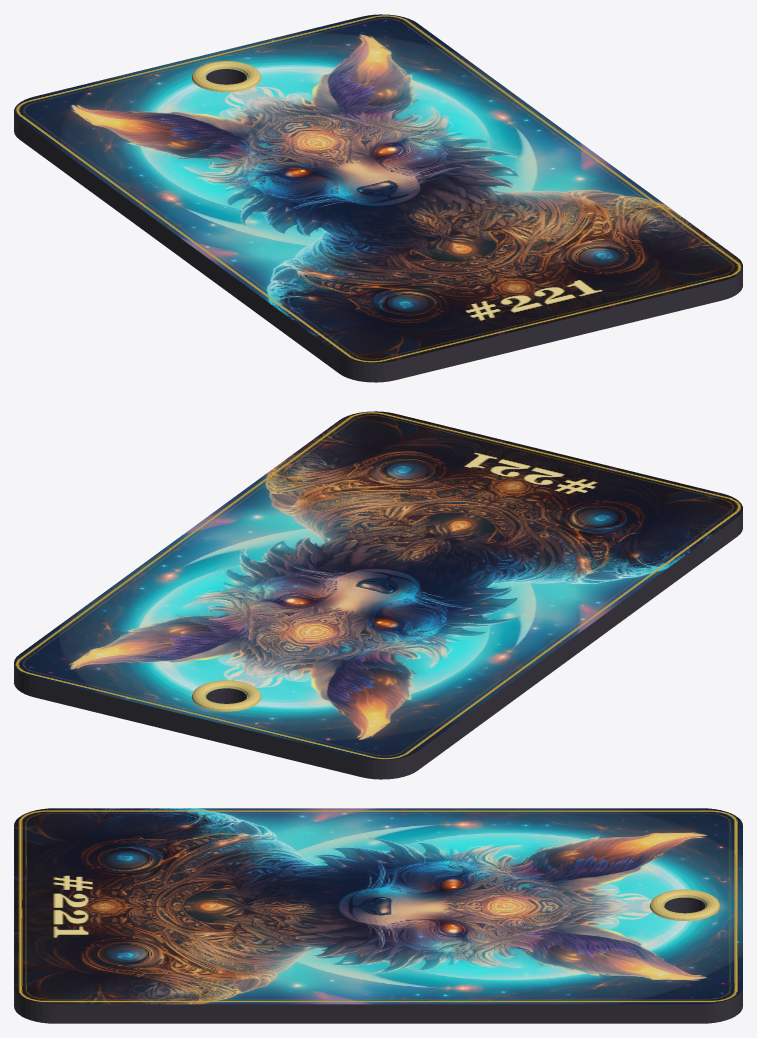
File: nyf221-card-3d.glb
The picture shows the model from 3 angles, top to bottom: view 1: azimuth 30°, elevation 25°; view 2: azimuth 150°, elevation 25°; view 3: azimuth 270°, elevation 25°; orthographic projection.
Visible parts, largest first — view 1: Card_Body, Hole_Ring_F; view 2: Card_Body, Hole_Ring_F; view 3: Card_Body, Hole_Ring_F.
Part boxes in pixels (x1,y1,x2,y2): Card_Body: (14, 14, 742, 382); Hole_Ring_F: (192, 61, 261, 92); Card_Body: (14, 411, 742, 779); Hole_Ring_F: (192, 680, 261, 711); Card_Body: (14, 808, 742, 1023); Hole_Ring_F: (650, 889, 720, 920).
Size of the model in its own units: 0.056 by 0.00365 by 0.088.
Materials: 4 (2 with a texture image).
